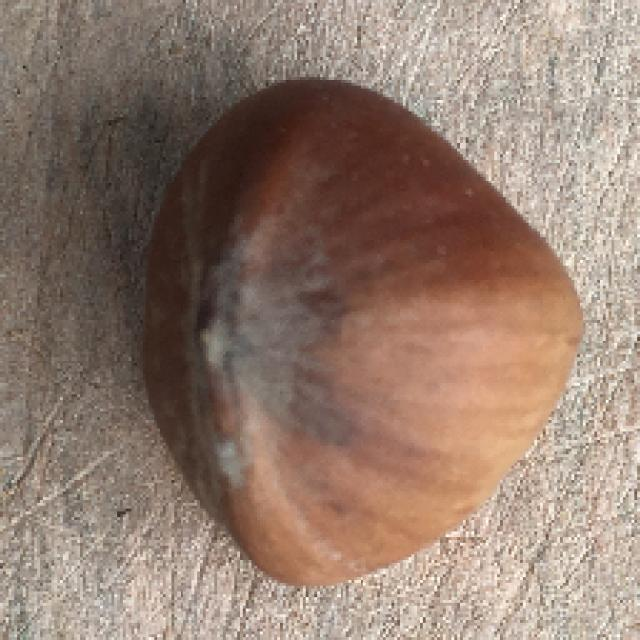DamagedHazelnut: (146, 80, 581, 582)
